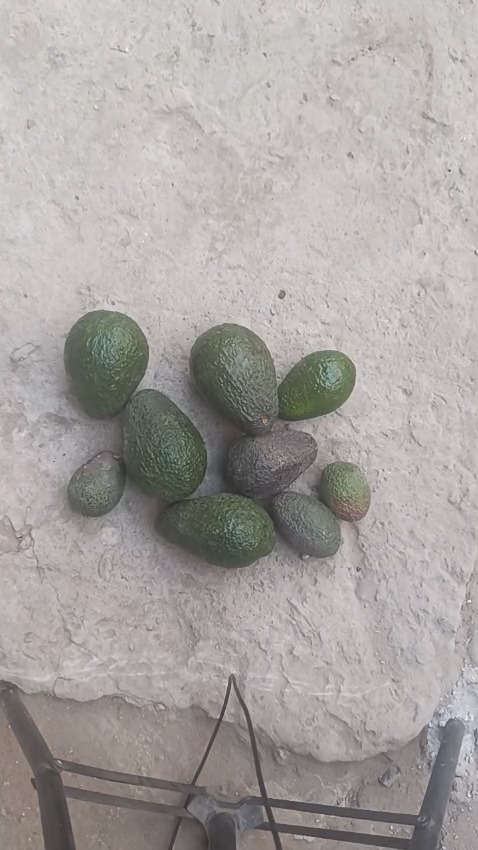Primera: (121, 387, 209, 502), (189, 323, 280, 432), (63, 310, 149, 417), (155, 492, 277, 567)
Segunda: (224, 426, 317, 499), (276, 351, 357, 422)
Tercera: (269, 489, 340, 559), (67, 451, 126, 517), (318, 461, 370, 521)
